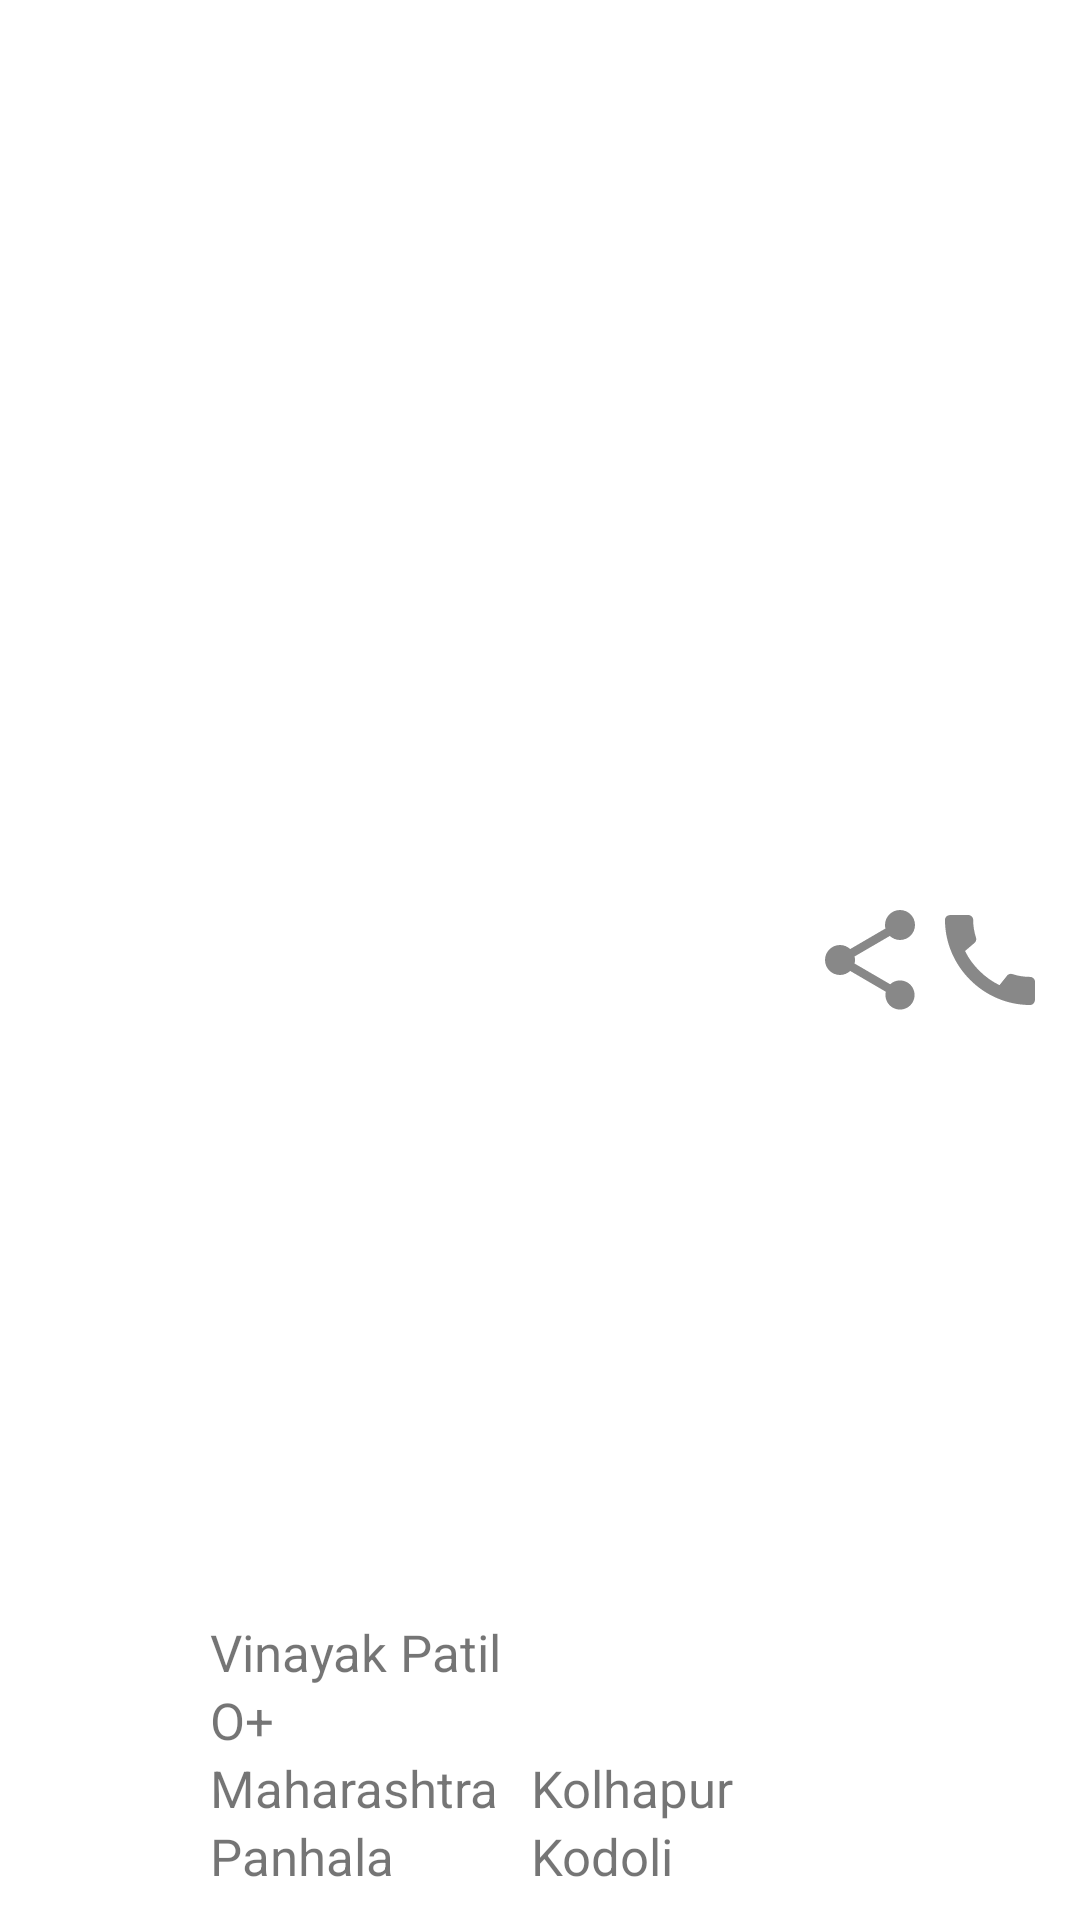

Named icons in this screenshot (1080w x 1920h) and their bounding boxes, (x1, y1, x2, y2):
call: (945, 915, 1035, 1005)
share: (825, 910, 915, 1010)
